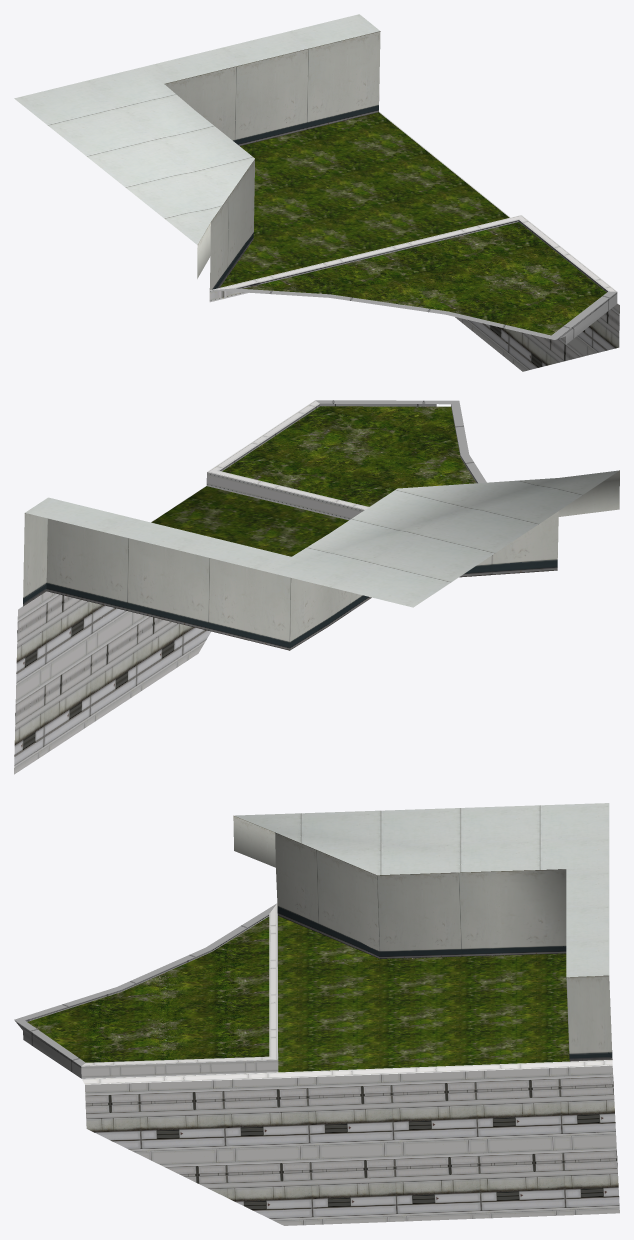
Rendered from STA20_garden05.FBX.
3 views of the same model, one above another, from view 1: azimuth 30°, elevation 25°; view 2: azimuth 150°, elevation 25°; view 3: azimuth 270°, elevation 25° (orthographic). The views are drawn at different scales.
Parts seen in each view (by area): view 1: STA20_garden05; view 2: STA20_garden05; view 3: STA20_garden05.
Boxes of the visible parts, x1,y1,x2,y2 form: STA20_garden05: (14, 14, 619, 371); STA20_garden05: (14, 400, 619, 774); STA20_garden05: (14, 803, 619, 1225).
Bounding box in the file's own units: 25.98 × 17.2 × 38.06.
